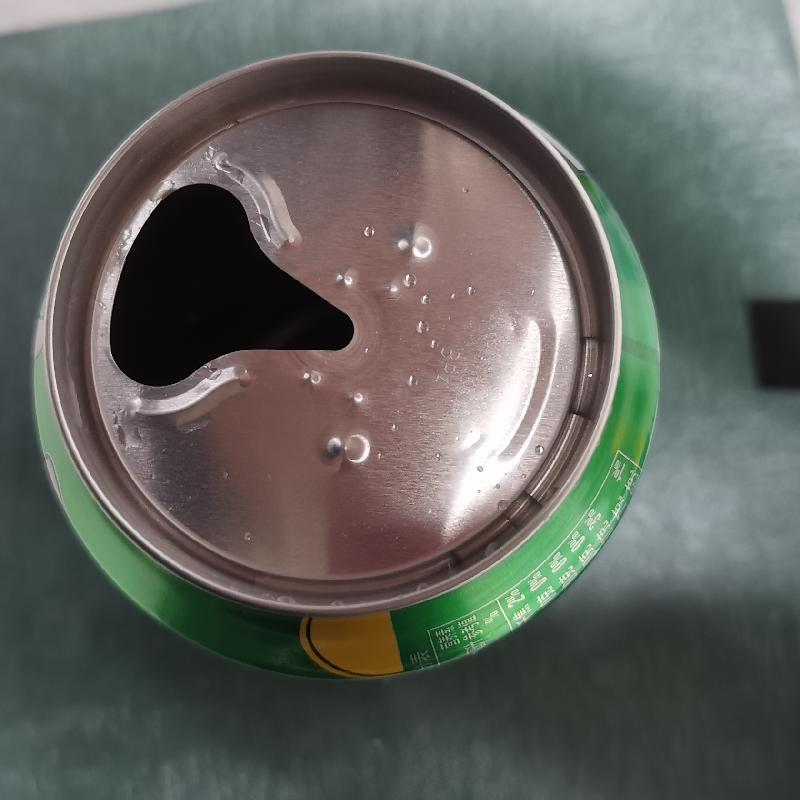cans: (27, 45, 667, 684)
